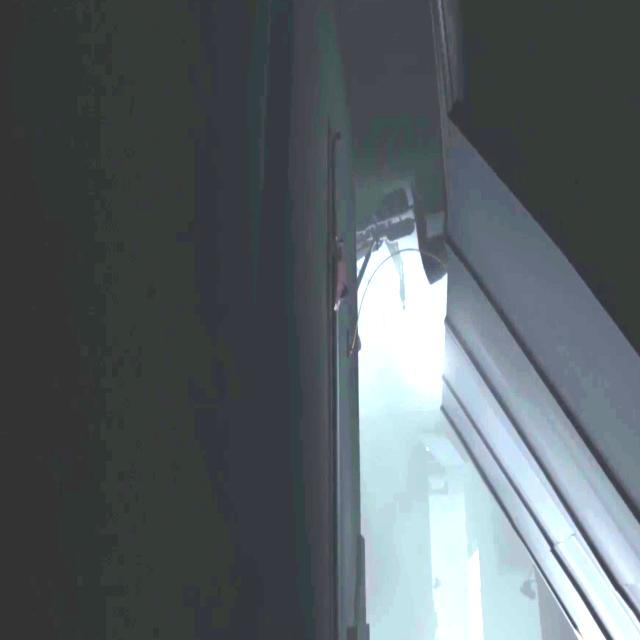boy: (332, 235, 345, 319)
zombie: (399, 261, 406, 312), (429, 284, 437, 325), (380, 290, 387, 332), (406, 284, 411, 326)
